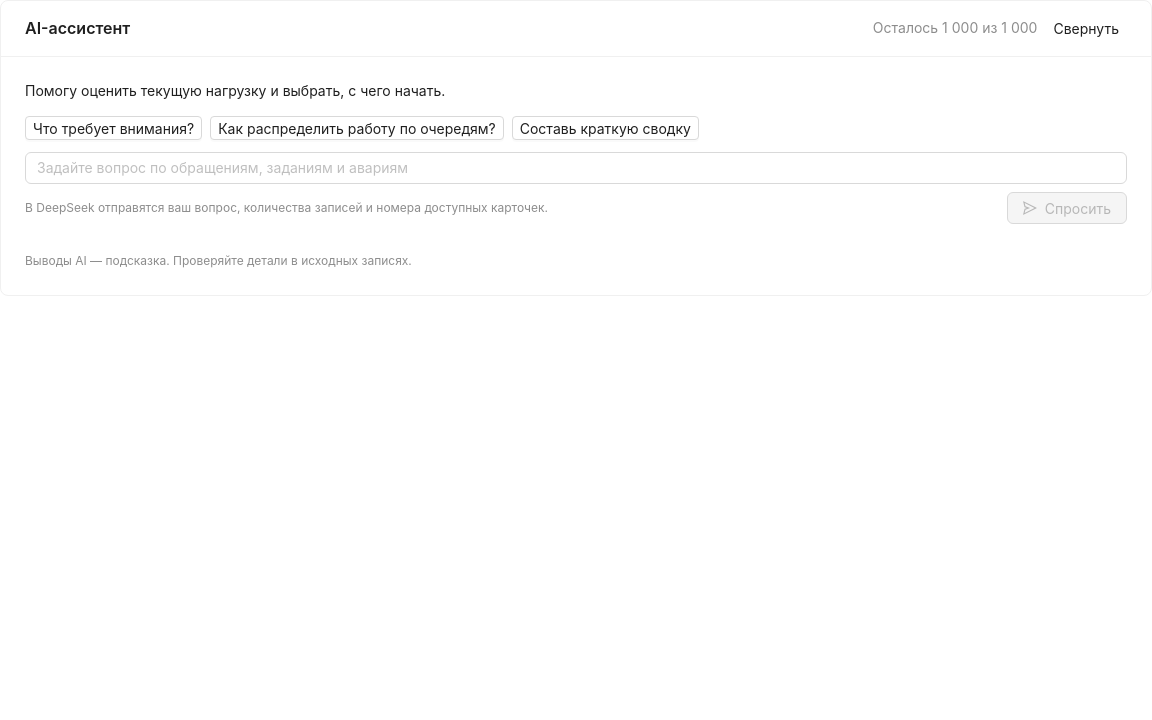
Test case: ошибка limit_exceeded: сообщение сбойное с причиной и «Повторить», расход перечитан
The image size is (1152, 720).
Type "вопрос при лимите" into the text box named "Вопрос ассистенту".
click(576, 168); type("вопрос при лимите")  # box [25,152,1127,184]
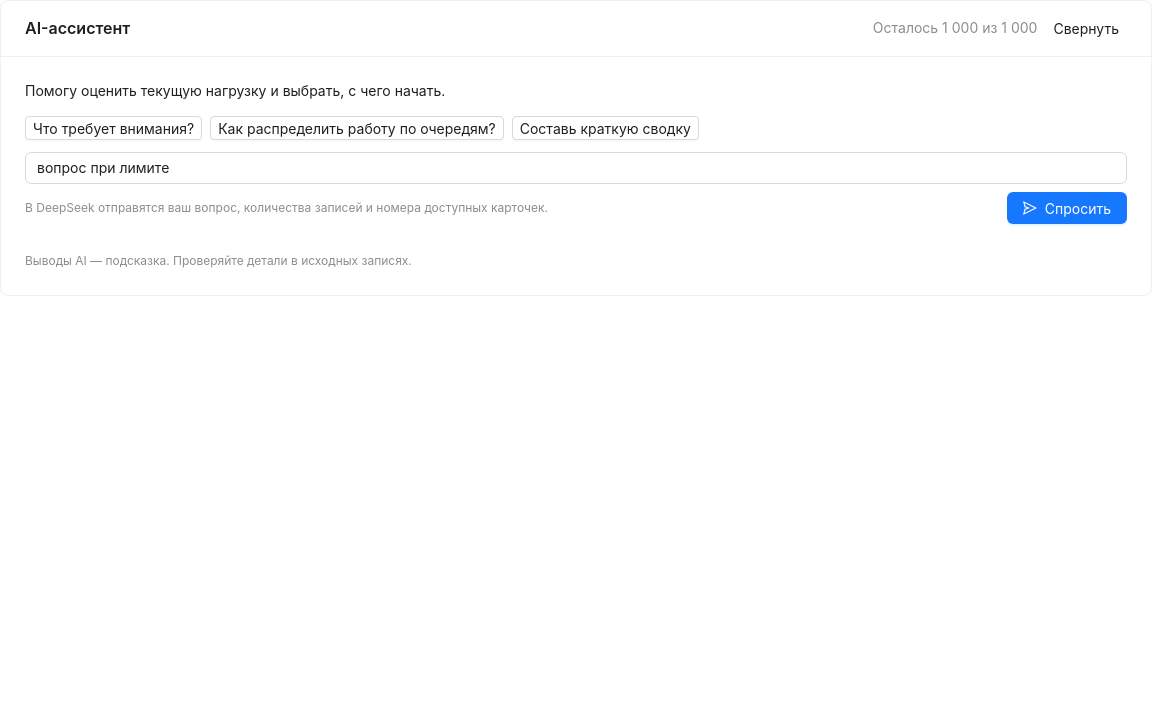
Click the button "Спросить".
click(1067, 208)  # box [1007,192,1127,224]
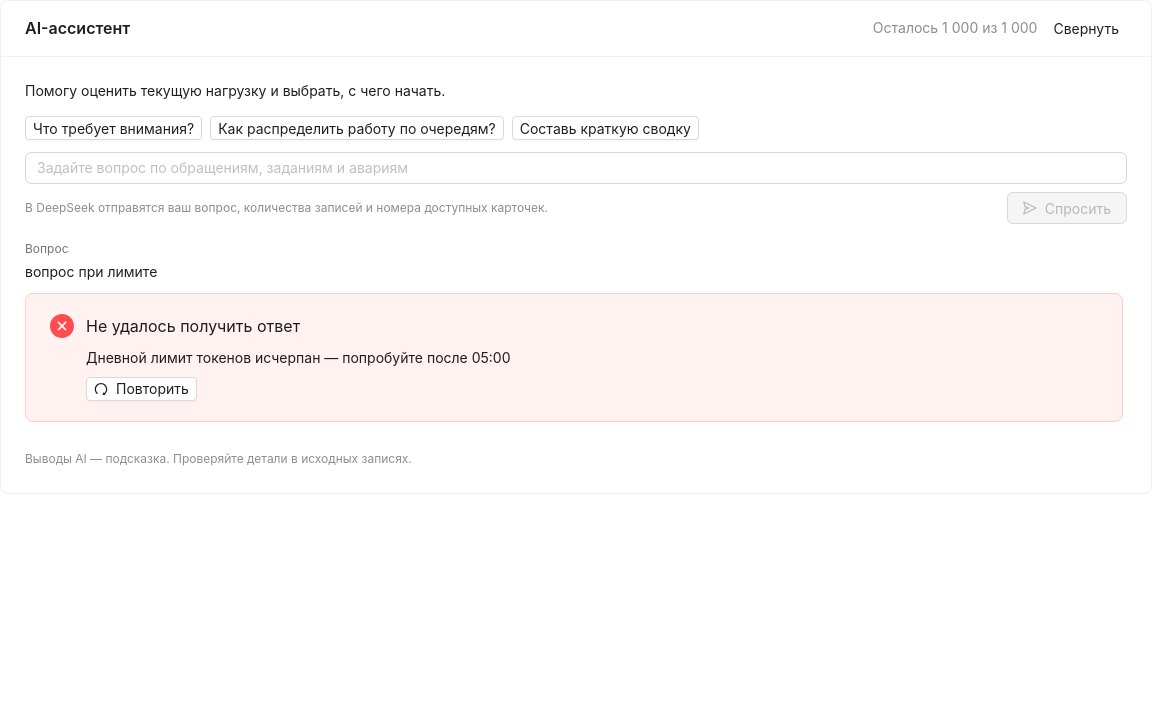
Expected: the text "Готовлю ответ" is shown, [1045,200,1111,216]
Result: the text "Дневной лимит токенов исчерпан — попробуйте после 05:00" is shown at [86,349,510,366]
Result: the button "Повторить" is shown at [86,377,197,401]
